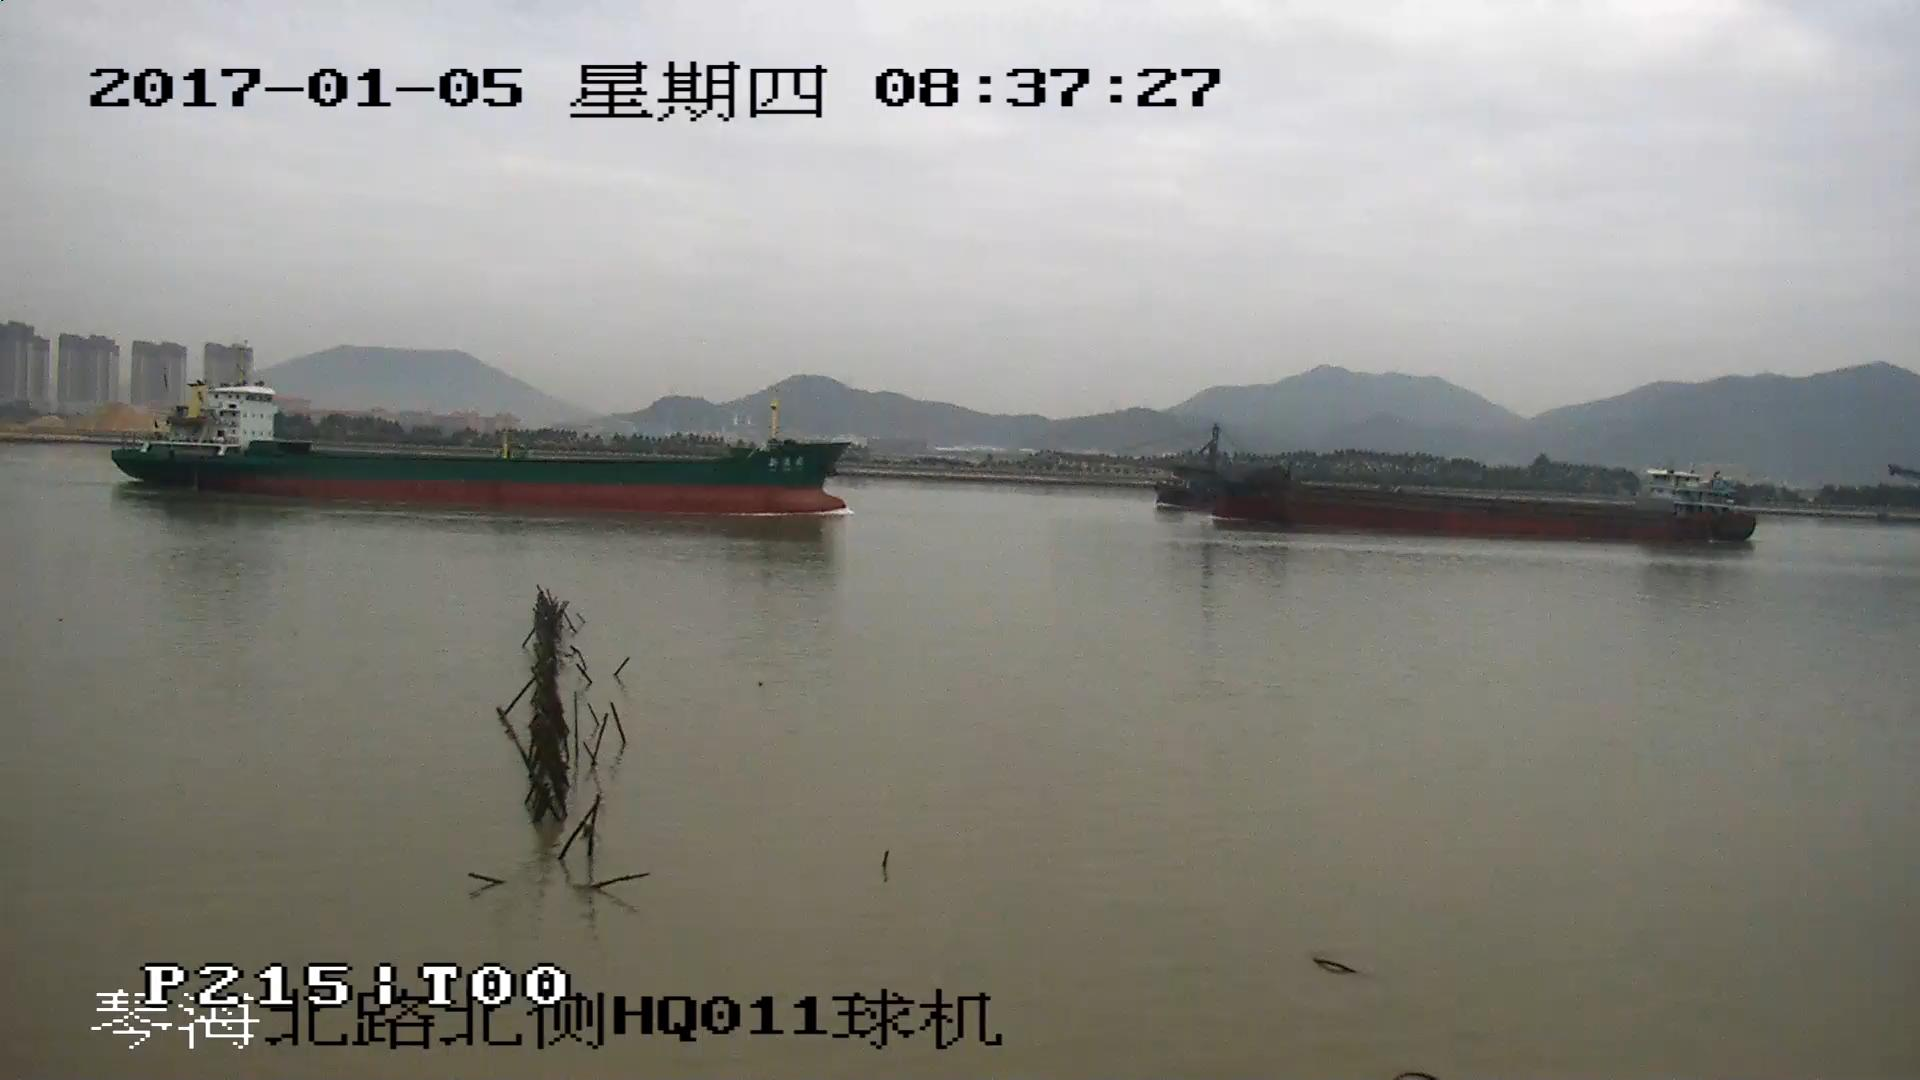bulk cargo carrier: (1163, 433, 1757, 543)
general cargo ship: (114, 349, 841, 516)
